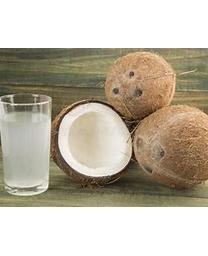coconut: (45, 99, 134, 186), (133, 105, 207, 190), (104, 52, 176, 124)
